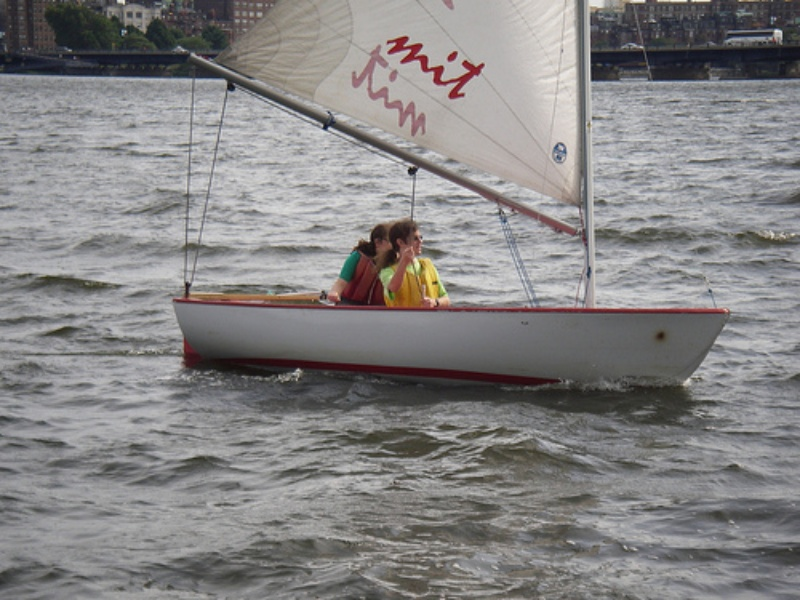car: (723, 28, 782, 44), (621, 43, 643, 49)
person: (380, 219, 452, 308), (326, 223, 392, 306)
